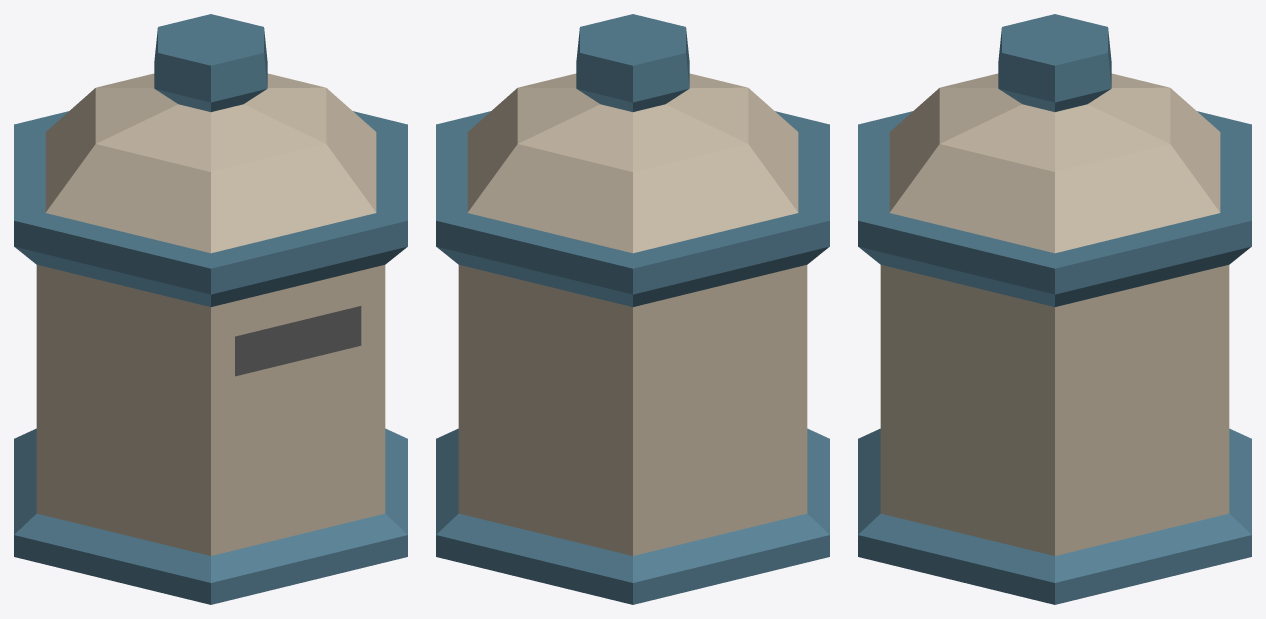
Rendered from SM_Prop_Jar_02.fbx.
3 renders of one model, left to right at view 1: azimuth 30°, elevation 25°; view 2: azimuth 150°, elevation 25°; view 3: azimuth 270°, elevation 25°, orthographic.
Parts seen in each view (by area): view 1: SM_Prop_Jar_02; view 2: SM_Prop_Jar_02; view 3: SM_Prop_Jar_02.
Boxes of the visible parts, <box> form: SM_Prop_Jar_02: <box>14,14,407,604</box>; SM_Prop_Jar_02: <box>436,14,829,604</box>; SM_Prop_Jar_02: <box>858,14,1251,604</box>.
Bounding box in the file's own units: 26.29 × 29.9 × 22.77.
